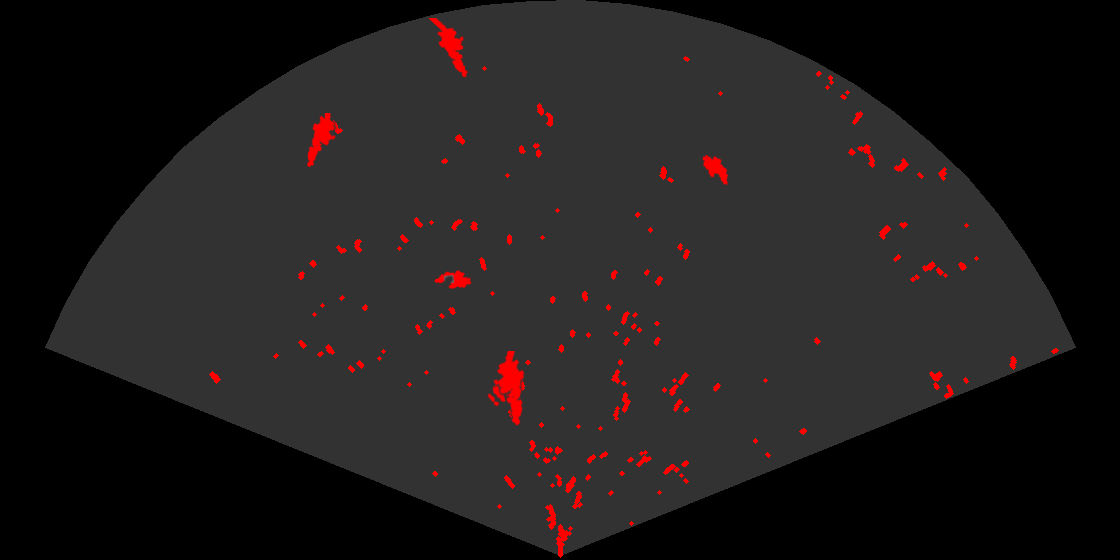AUV: (701, 153, 730, 187), (432, 268, 473, 290)
ball: (486, 381, 513, 408)
frogman: (491, 351, 526, 427), (427, 18, 469, 79), (306, 113, 338, 167)
